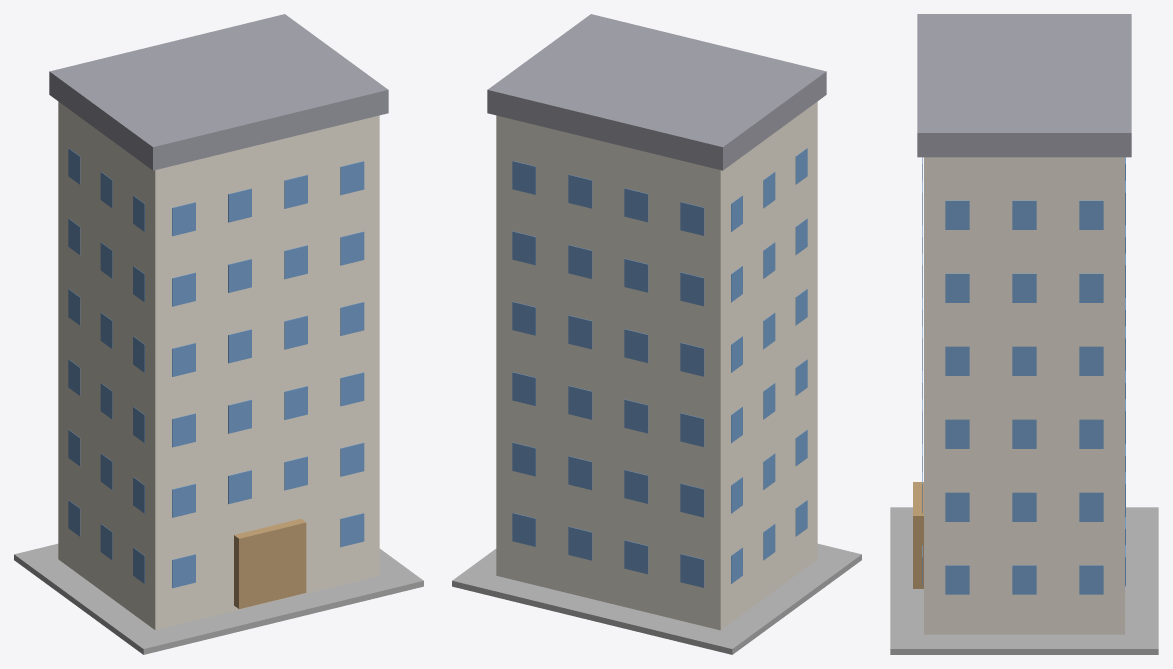
The model's file is Bulding.fbx.
3 views of the same model, side by side, from view 1: azimuth 30°, elevation 25°; view 2: azimuth 150°, elevation 25°; view 3: azimuth 270°, elevation 25° (orthographic). The views are drawn at different scales.
Parts seen in each view (by area): view 1: Apartment_Main, Apartment_Roof, Apartment_Ground, Apartment_Entrance, Window_Front_1_3, Window_Front_5_3, Window_Front_0_3, Window_Front_2_3, Window_Front_3_3, Window_Front_4_3, Window_Front_3_1, Window_Front_4_2 (+14 smaller); view 2: Apartment_Main, Apartment_Roof, Apartment_Ground, Window_Back_1_2, Window_Back_2_1, Window_Back_4_1, Window_Back_0_0, Window_Back_3_0, Window_Back_3_2, Window_Back_5_0, Window_Back_0_1, Window_Back_0_2 (+15 smaller); view 3: Apartment_Main, Apartment_Roof, Apartment_Ground, Apartment_Entrance, Window_Right_0_0, Window_Right_0_1, Window_Right_0_2, Window_Right_1_0, Window_Right_1_1, Window_Right_1_2, Window_Right_2_0, Window_Right_2_1 (+10 smaller).
Boxes of the visible parts, x1,y1,x2,y2 form: Apartment_Main: [58, 101, 379, 630]; Apartment_Roof: [49, 14, 388, 170]; Apartment_Ground: [14, 543, 423, 654]; Apartment_Entrance: [234, 518, 306, 609]; Window_Front_1_3: [340, 442, 364, 476]; Window_Front_5_3: [340, 161, 364, 195]; Window_Front_0_3: [340, 513, 364, 547]; Window_Front_2_3: [340, 372, 364, 406]; Window_Front_3_3: [340, 302, 364, 335]; Window_Front_4_3: [340, 231, 364, 265]; Window_Front_3_1: [228, 329, 251, 363]; Window_Front_4_2: [284, 245, 307, 279]; Apartment_Main: [496, 101, 817, 630]; Apartment_Roof: [487, 14, 826, 170]; Apartment_Ground: [452, 543, 861, 654]; Window_Back_1_2: [568, 456, 592, 490]; Window_Back_2_1: [624, 399, 648, 433]; Window_Back_4_1: [624, 258, 648, 292]; Window_Back_0_0: [680, 554, 704, 587]; Window_Back_3_0: [680, 343, 704, 376]; Window_Back_3_2: [568, 315, 592, 349]; Window_Back_5_0: [680, 202, 704, 235]; Window_Back_0_1: [624, 540, 648, 574]; Window_Back_0_2: [568, 526, 592, 560]; Apartment_Main: [924, 157, 1124, 634]; Apartment_Roof: [917, 14, 1131, 157]; Apartment_Ground: [890, 507, 1158, 654]; Apartment_Entrance: [913, 482, 923, 588]; Window_Right_0_0: [945, 565, 969, 594]; Window_Right_0_1: [1012, 565, 1036, 594]; Window_Right_0_2: [1079, 565, 1103, 594]; Window_Right_1_0: [945, 492, 969, 521]; Window_Right_1_1: [1012, 492, 1036, 521]; Window_Right_1_2: [1079, 492, 1103, 521]; Window_Right_2_0: [945, 419, 969, 448]; Window_Right_2_1: [1012, 419, 1036, 448].
Bounding box in the file's own units: 500 × 840 × 400.
